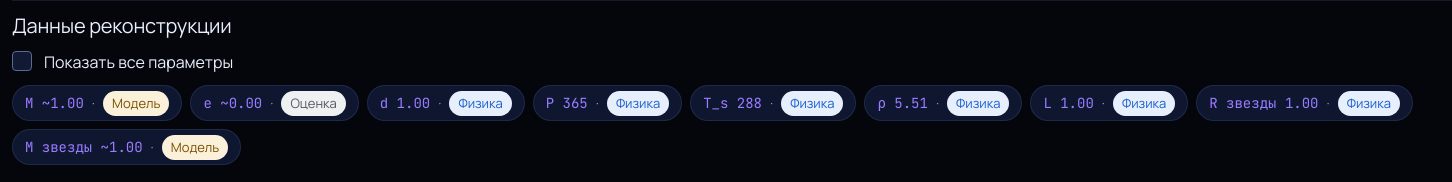
Scenario: ReconstructionPanel › «Показать все параметры» добавляет измеренные значения
What coordinates should you click on to do the following:
click the checkbox labelled "Показать все параметры"
I would click on:
 (22, 61)
Its box is [12, 51, 32, 71].
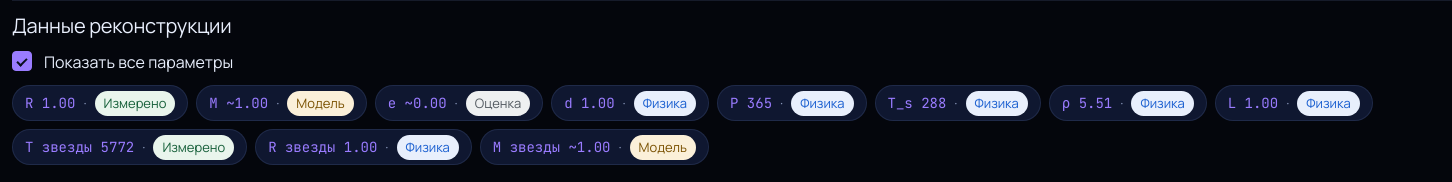
Result: the button "R 1.00 · Измерено" is shown at [12, 85, 188, 121]
Result: the button "T звезды 5772 · Измерено" is shown at [12, 129, 247, 165]
